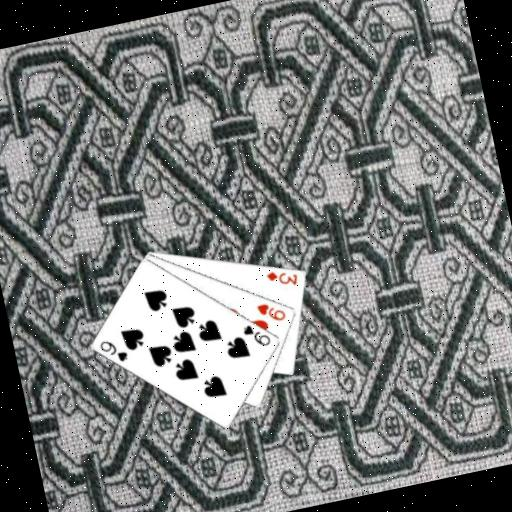3D: (262, 263, 301, 292)
9H: (253, 296, 288, 326)
9S: (95, 333, 131, 367), (239, 317, 273, 351)
